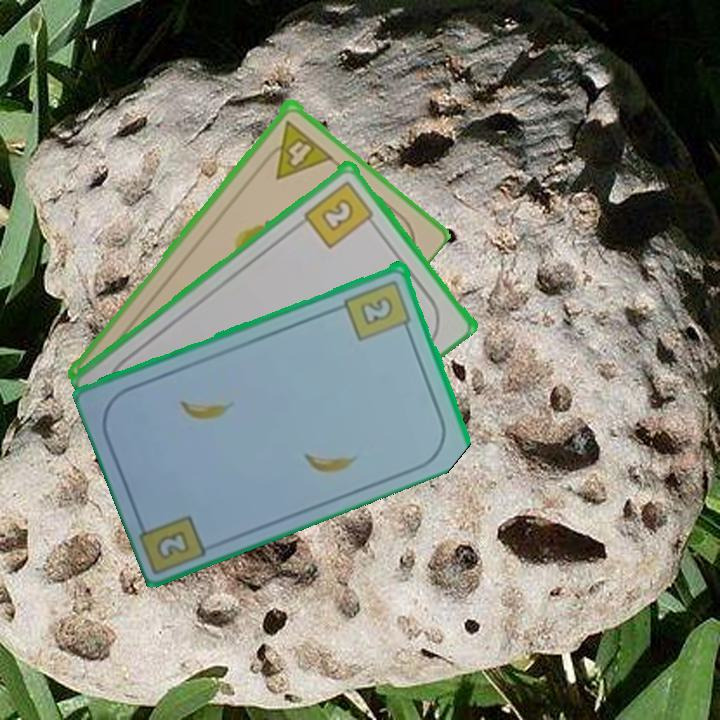2b: (300, 176, 378, 251), (341, 276, 415, 343), (156, 529, 189, 559)
4p: (257, 115, 334, 182)
